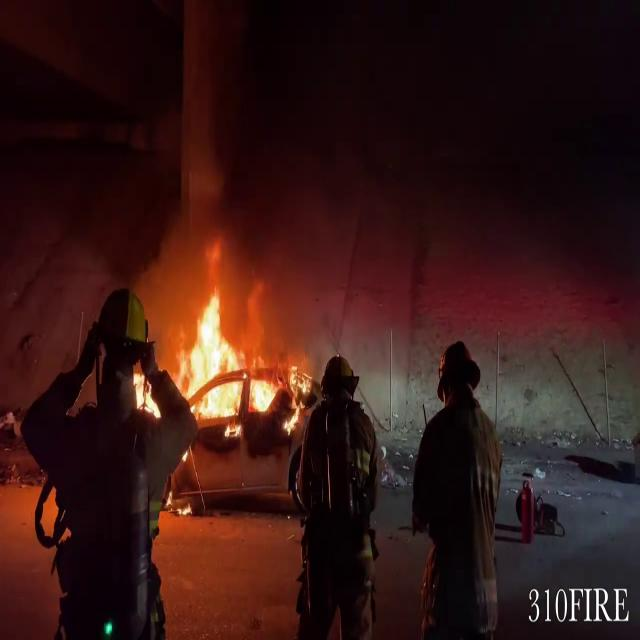Fire: (172, 282, 296, 434), (129, 364, 161, 422)
